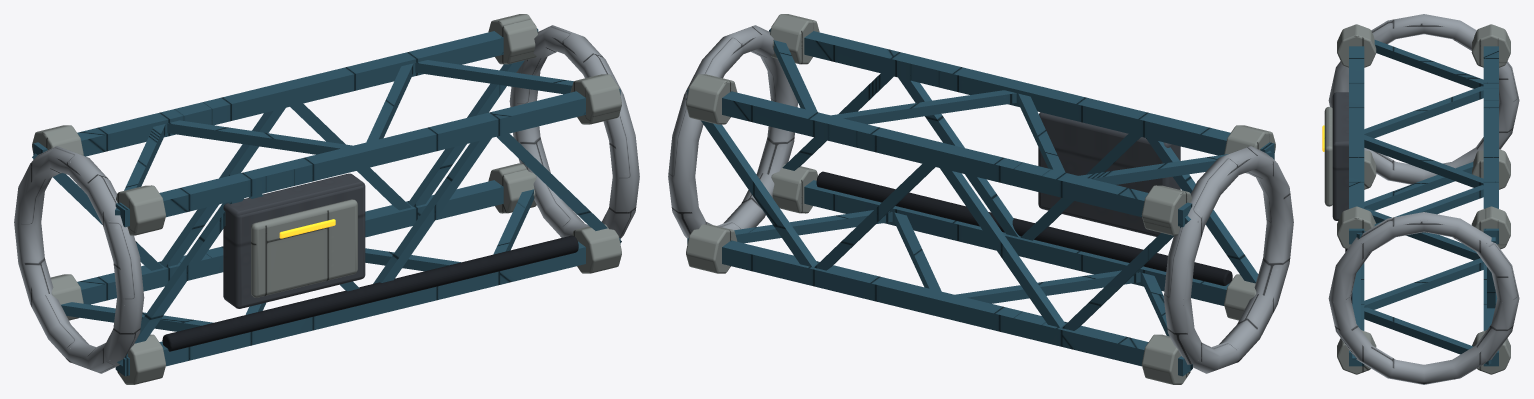
Rendered from truss_short_lod0.glb.
3 renders of one model, left to right at view 1: azimuth 30°, elevation 25°; view 2: azimuth 150°, elevation 25°; view 3: azimuth 270°, elevation 25°, orthographic. The views are drawn at different scales.
Parts seen in each view (by area): view 1: LOD0_Armor, LOD0_BrushedMetal, LOD0_Hull, LOD0_MechanicalDark, LOD0_Mechanical; view 2: LOD0_Armor, LOD0_BrushedMetal, LOD0_Hull, LOD0_Mechanical, LOD0_MechanicalDark; view 3: LOD0_Armor, LOD0_BrushedMetal, LOD0_Hull, LOD0_Mechanical.
Part boxes in pixels (bbox=[...]): LOD0_Armor: bbox=[32, 28, 621, 376]; LOD0_BrushedMetal: bbox=[14, 25, 639, 373]; LOD0_Hull: bbox=[32, 14, 621, 384]; LOD0_MechanicalDark: bbox=[162, 235, 578, 351]; LOD0_Mechanical: bbox=[223, 173, 365, 308]; LOD0_Armor: bbox=[686, 28, 1274, 376]; LOD0_BrushedMetal: bbox=[668, 25, 1293, 373]; LOD0_Hull: bbox=[686, 14, 1275, 384]; LOD0_Mechanical: bbox=[1038, 112, 1180, 236]; LOD0_MechanicalDark: bbox=[816, 171, 1232, 285]; LOD0_Armor: bbox=[1349, 40, 1498, 366]; LOD0_BrushedMetal: bbox=[1328, 14, 1519, 384]; LOD0_Hull: bbox=[1324, 24, 1510, 374]; LOD0_Mechanical: bbox=[1332, 92, 1348, 220].
Size of the model in its own units: 4.16 by 1.63 by 1.68.
6 materials, 5 textured.
